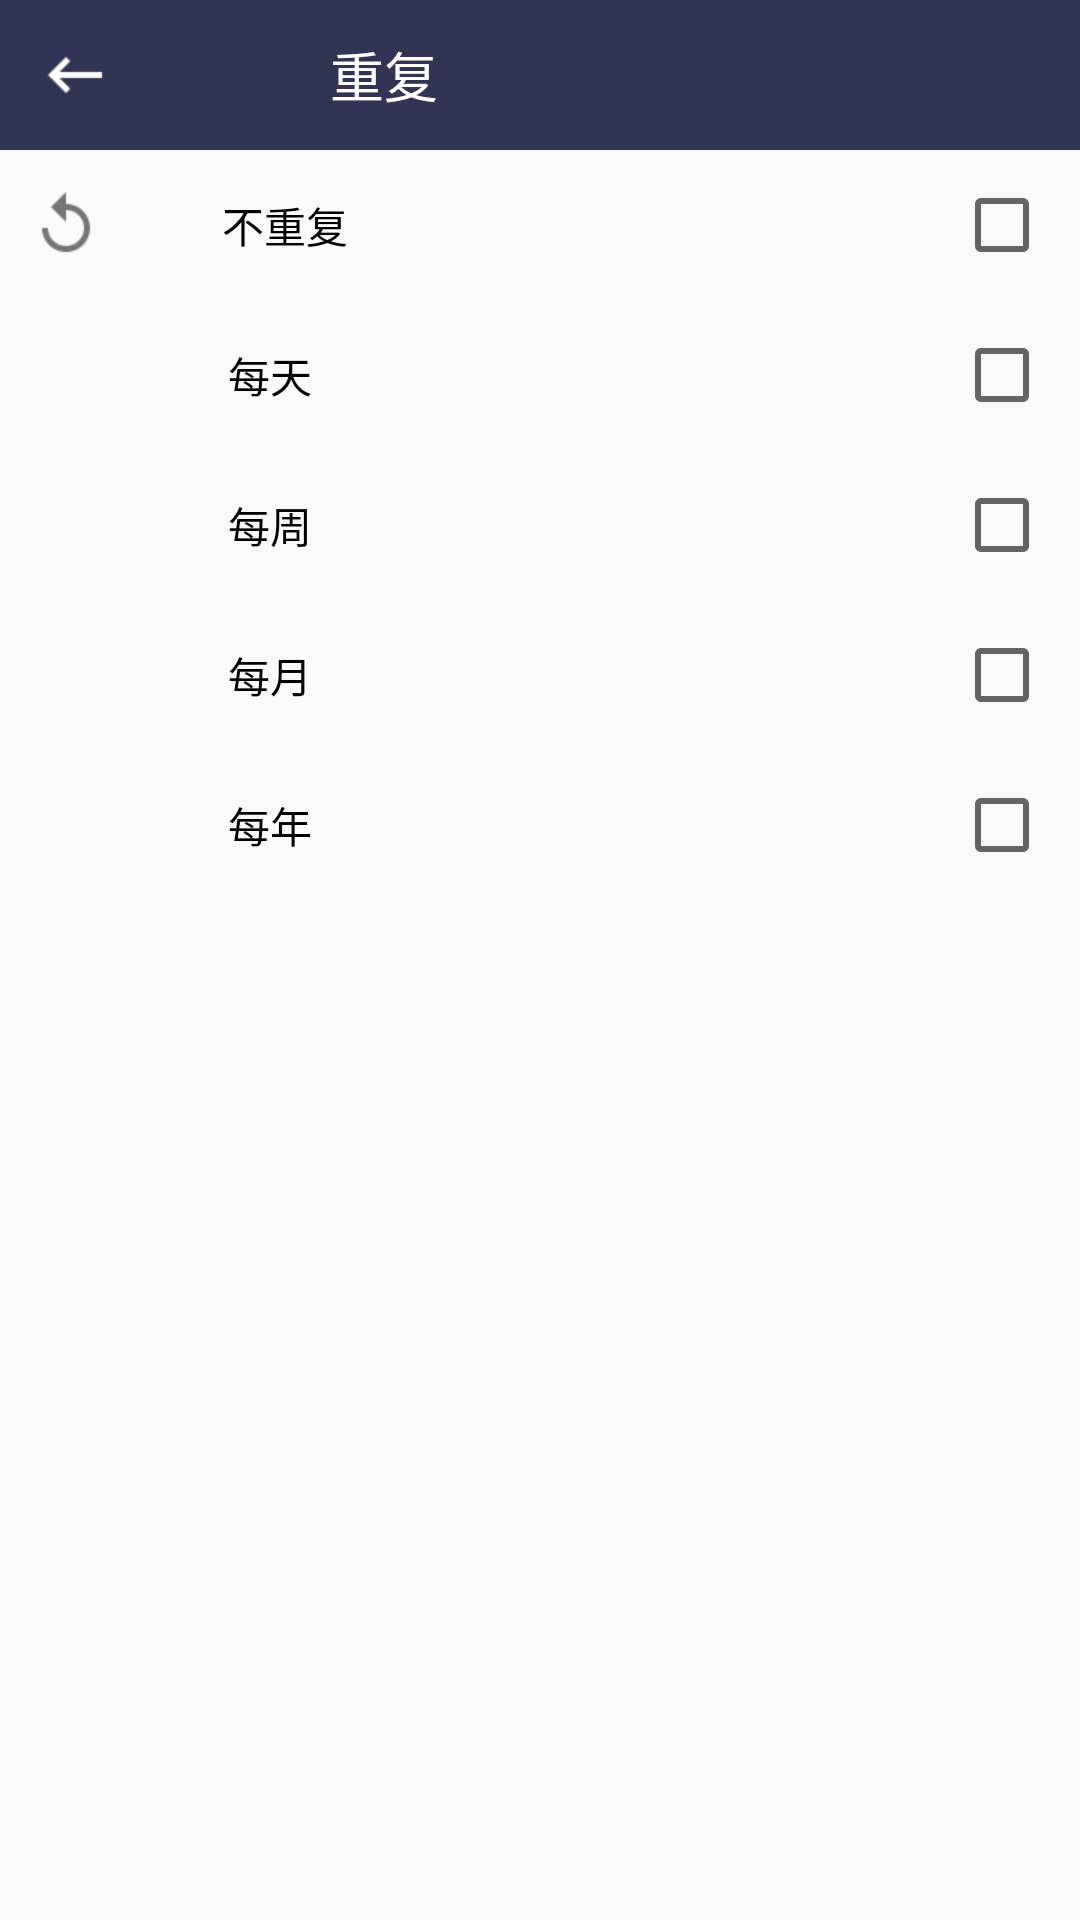

Icon click points for this 1080×1920 phone screenshot, format (x,y):
keyboard backspace: (75,75)
replay: (66,222)
